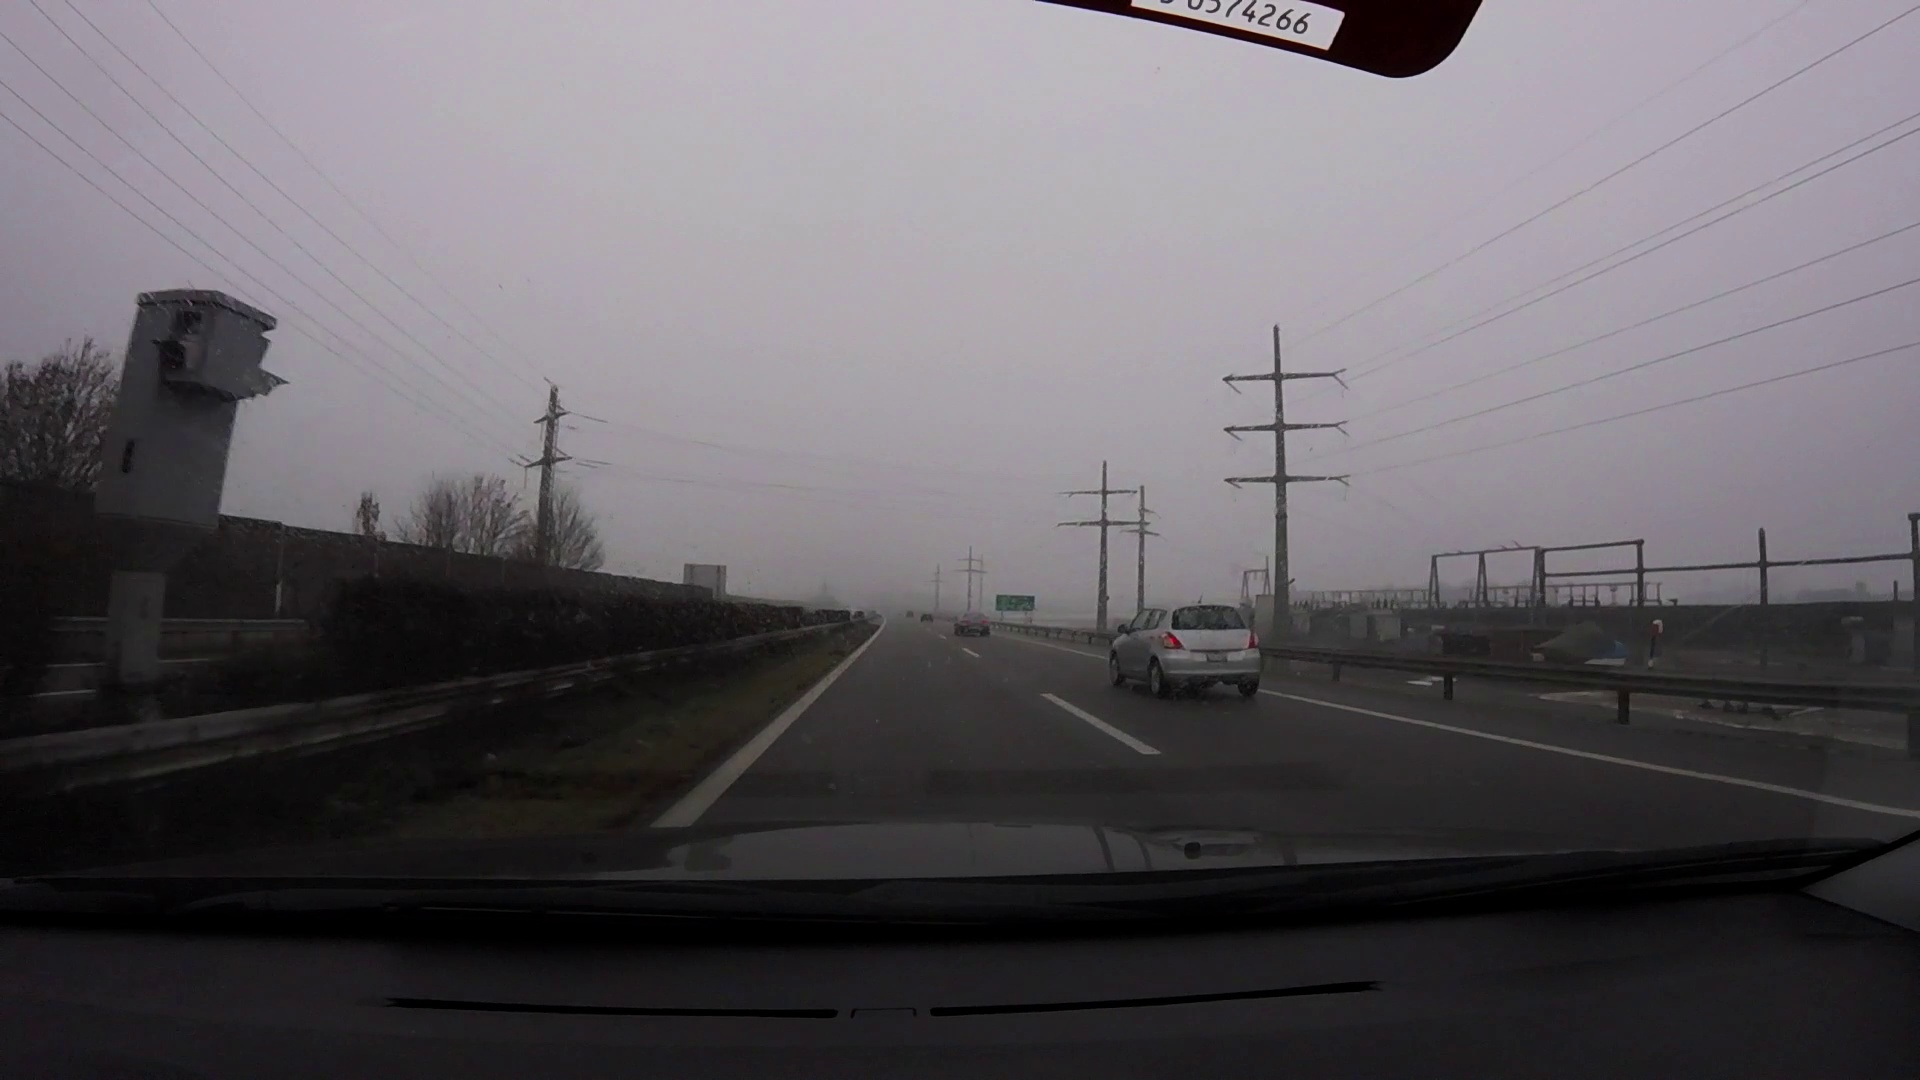radar: (88, 287, 287, 607)
